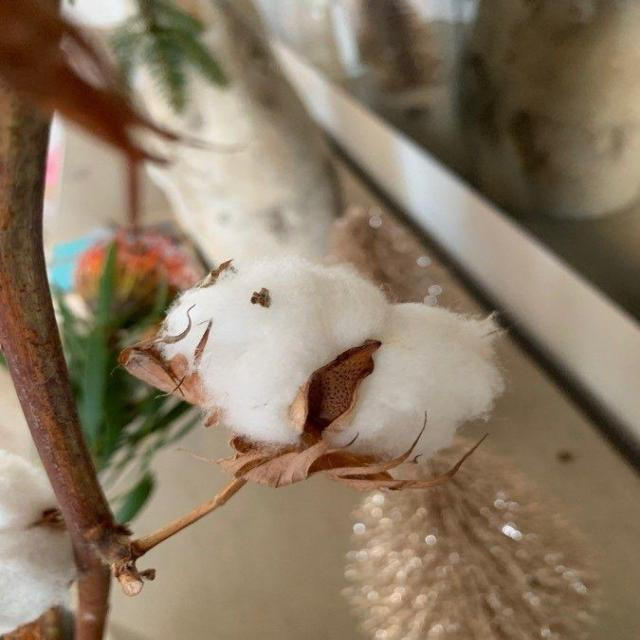Late_blight: (158, 254, 514, 482)
